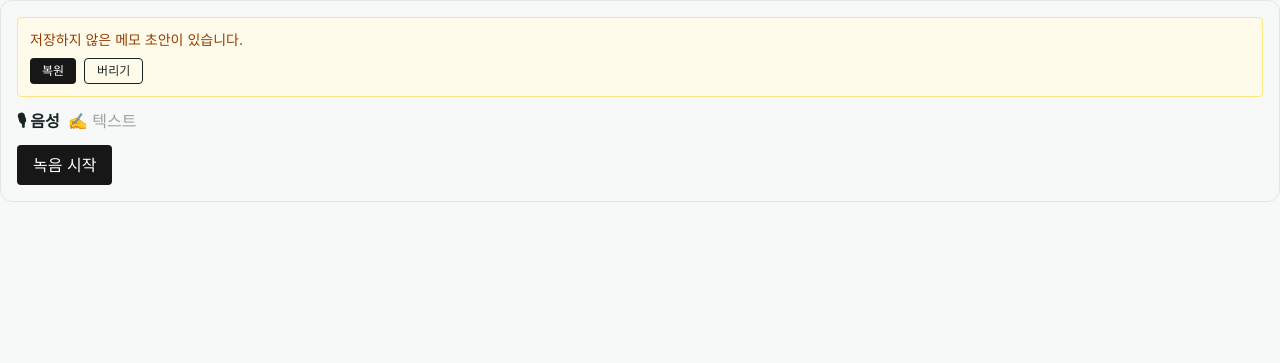
MemoComposer — 초안 복원 배너 › 복원 클릭 시 초안 내용으로 미리보기가 열린다
Click the button "복원" at (53, 71), box x1=30 y1=58 x2=76 y2=84
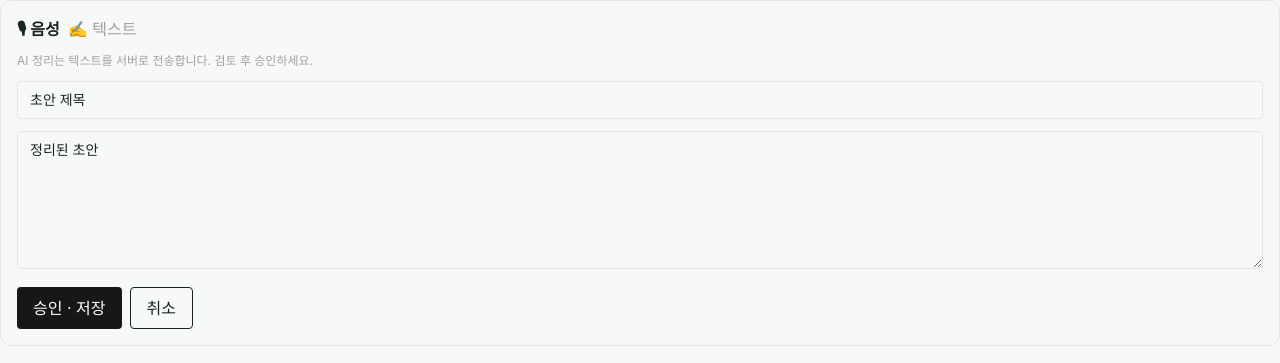
Now the text box showing "정리된 초안" is shown, box x1=17 y1=131 x2=1263 y2=269
Now the field showing "초안 제목" is shown, box x1=17 y1=81 x2=1263 y2=119
Now the button "승인 · 저장" is shown, box x1=17 y1=287 x2=122 y2=329
